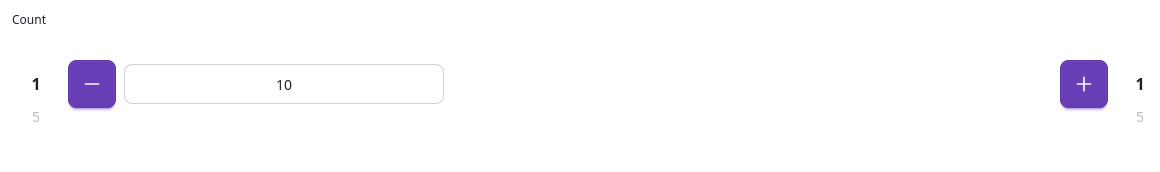
Test: NumberStepper › decrements value when decrement button is clicked
This screenshot has width=1160, height=172.
Click the button named "Decrement by 1" at [92, 84], box [68,60,116,108]
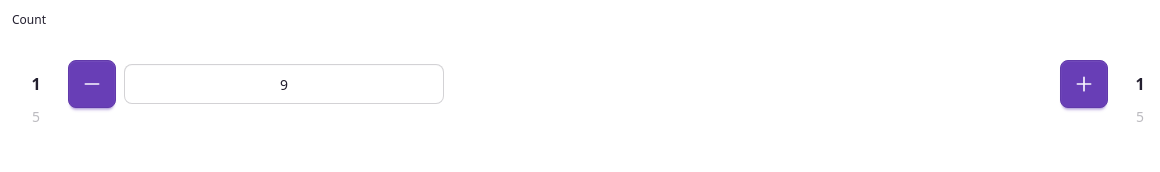
Now the number field holds "9", box [124,64,444,104]
